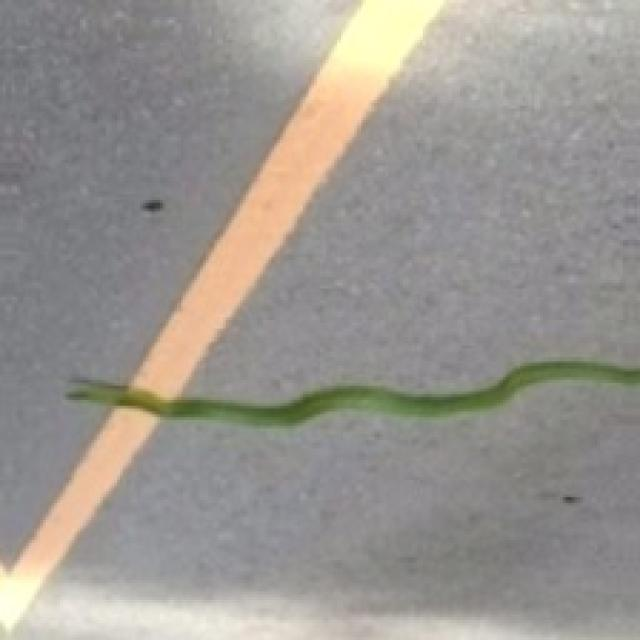red-tailed green ratsnake: (66, 360, 637, 423)
